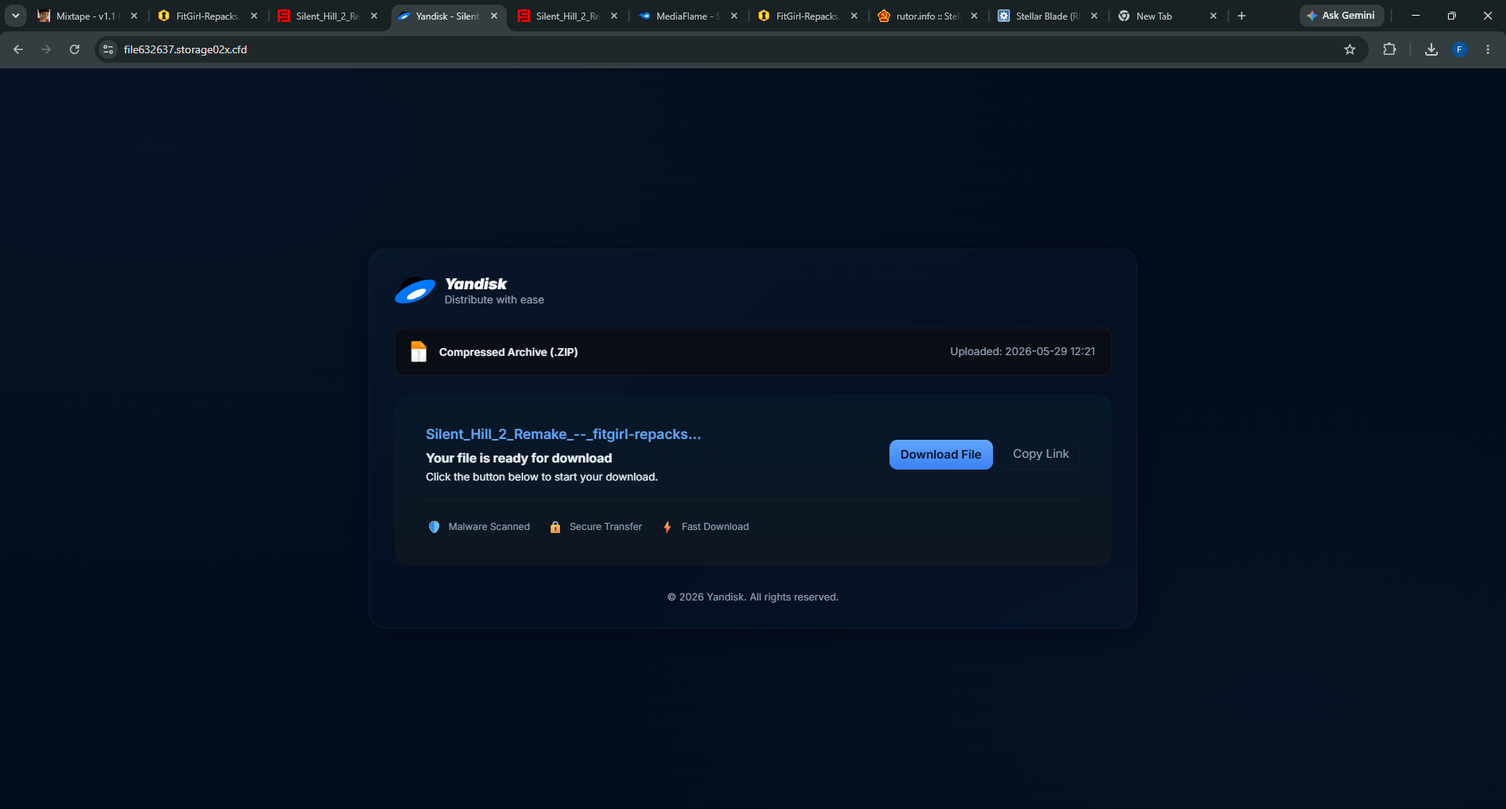fake_button: (885, 427, 1002, 485)
